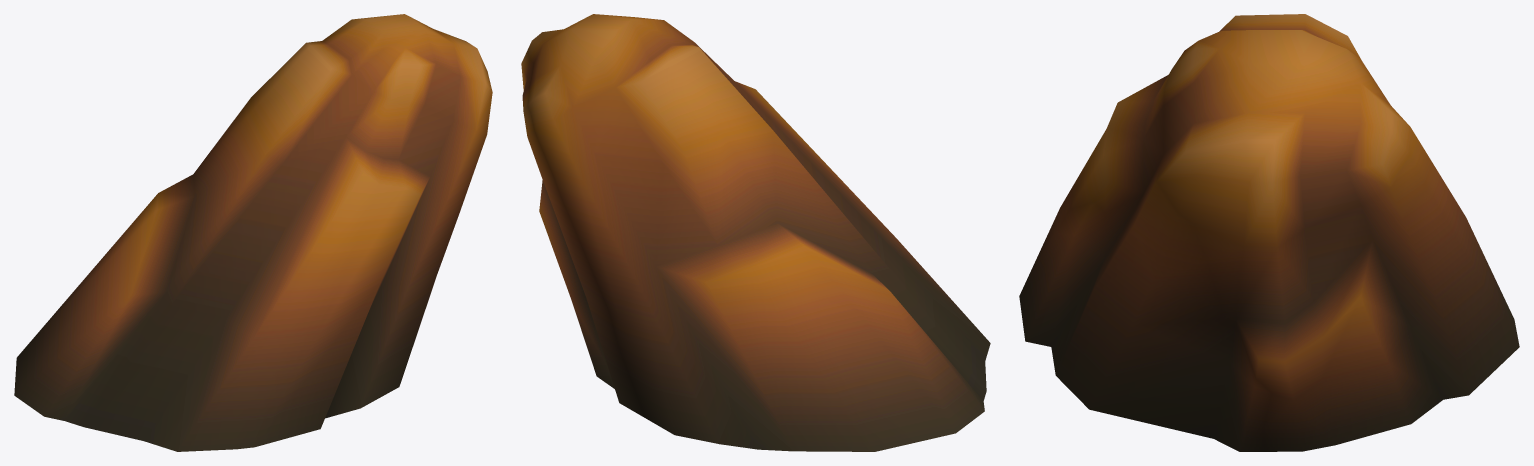
File: m_Rock03_B.fbx
3 renders of one model, left to right at view 1: azimuth 30°, elevation 25°; view 2: azimuth 150°, elevation 25°; view 3: azimuth 270°, elevation 25°, orthographic. The views are drawn at different scales.
Visible parts, largest first — view 1: m_Rock03_B; view 2: m_Rock03_B; view 3: m_Rock03_B.
Boxes of the visible parts, bbox=[...] form: m_Rock03_B: bbox=[14, 14, 492, 451]; m_Rock03_B: bbox=[521, 14, 990, 451]; m_Rock03_B: bbox=[1019, 14, 1519, 451].
Bounding box in the file's own units: 757 × 489 × 541.
